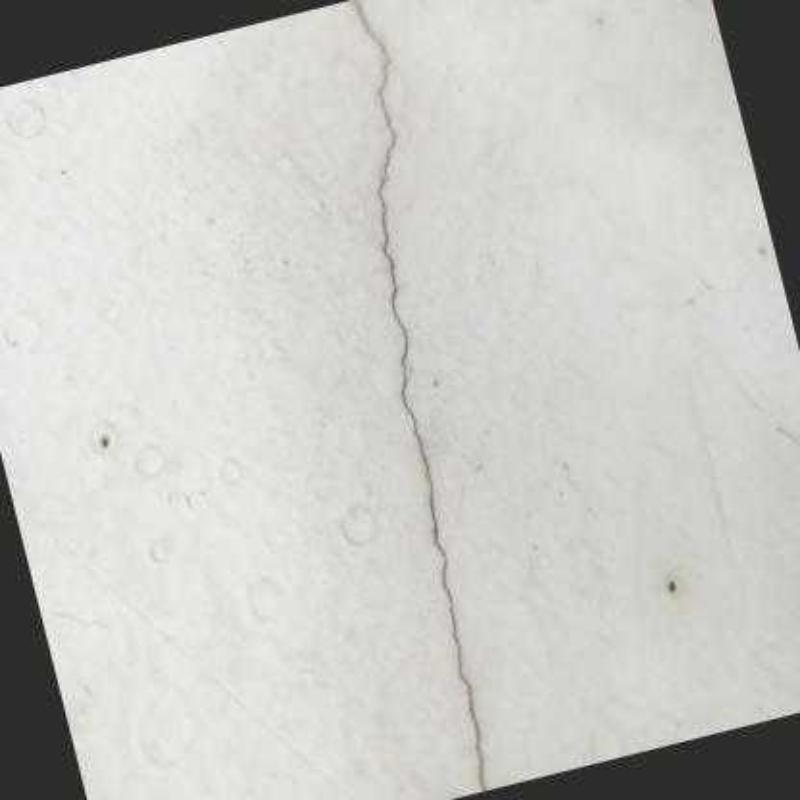pothole: (351, 0, 428, 470), (425, 469, 487, 791)
